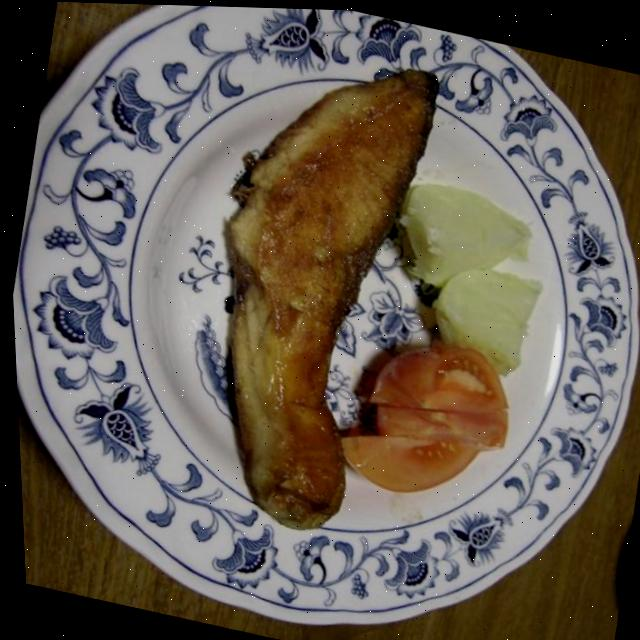熟制海鲜: (150, 11, 476, 579)
